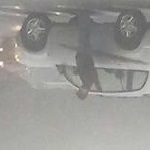person: (72, 10, 99, 100)
